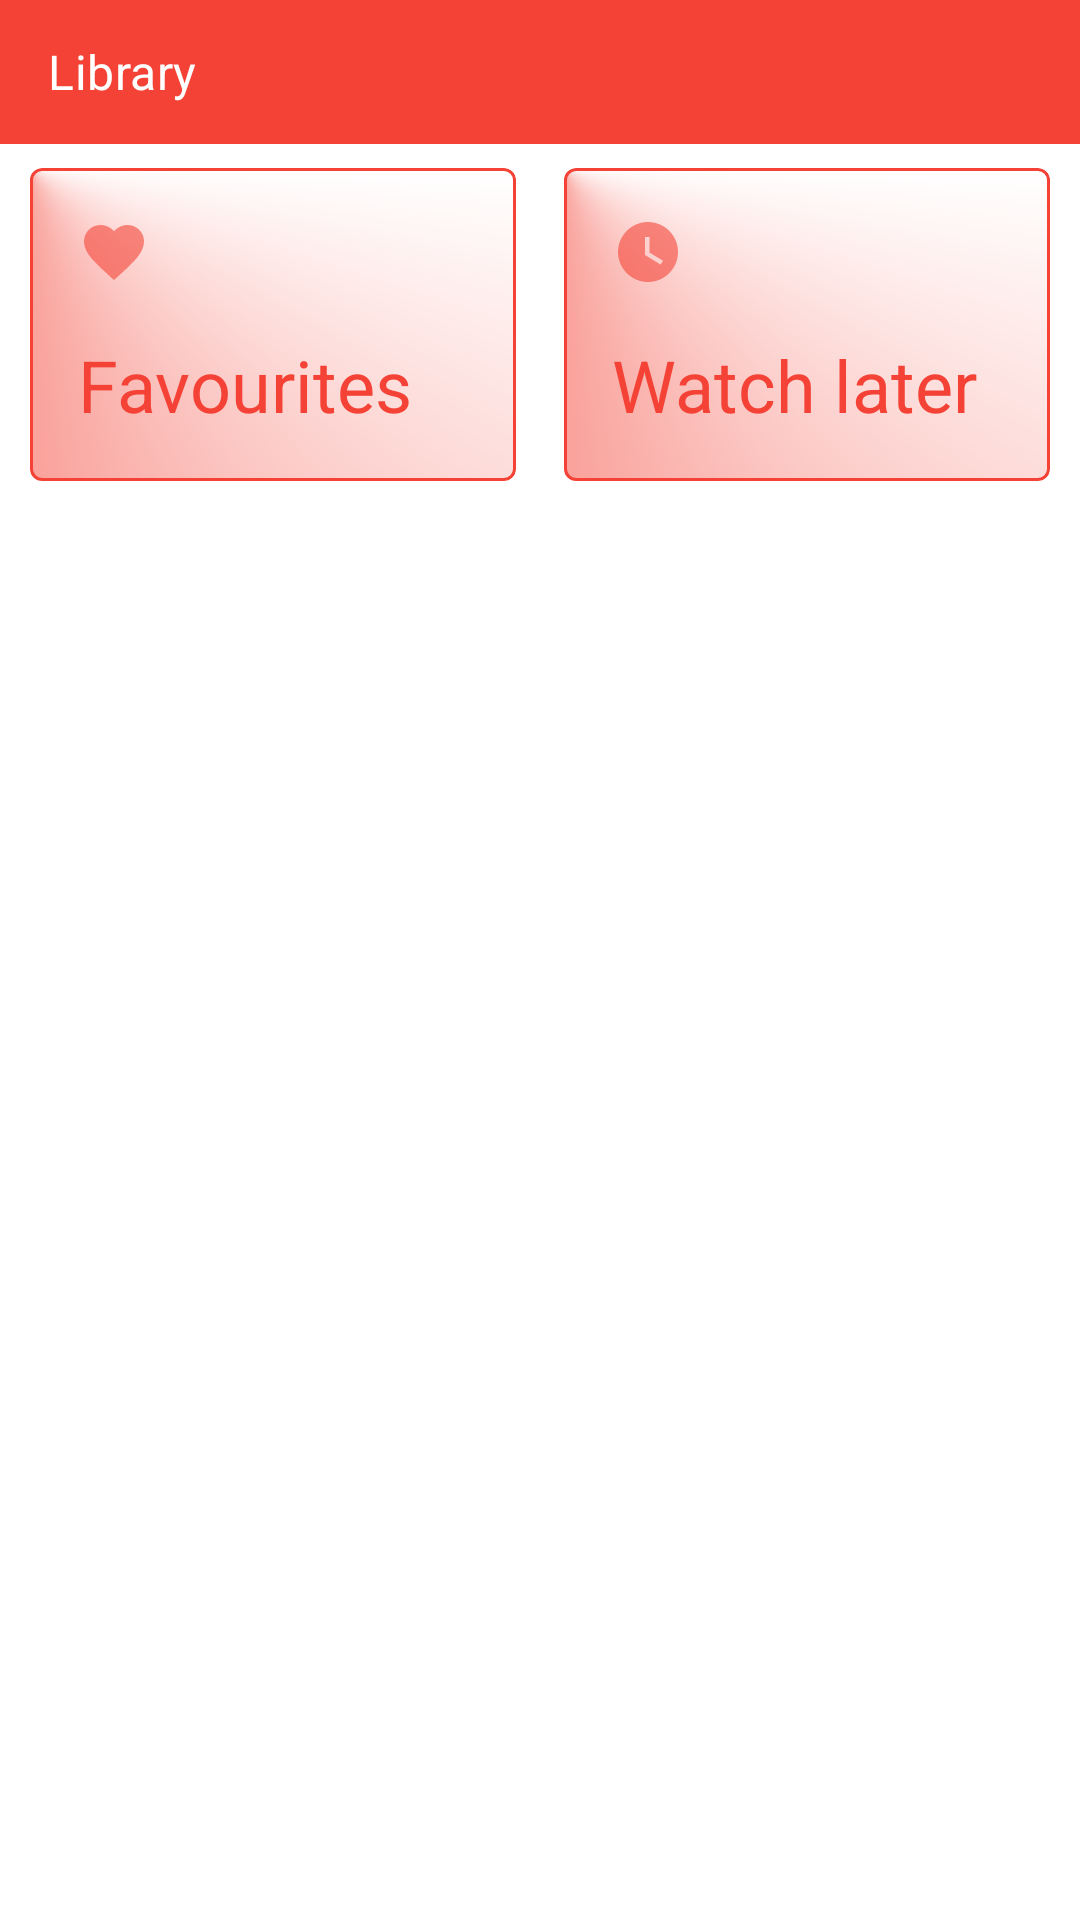

Icon click points for this 1080 × 1920 phone screenshot, format (x,y):
favorite: (114,252)
